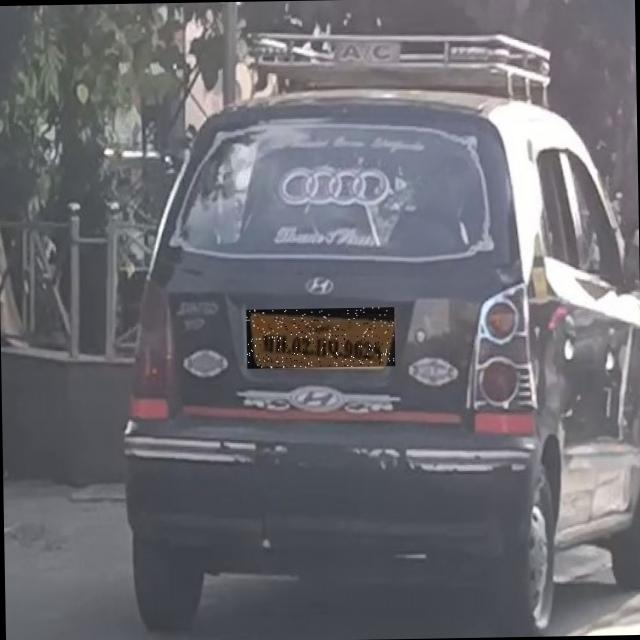Plate: (247, 308, 396, 370)
